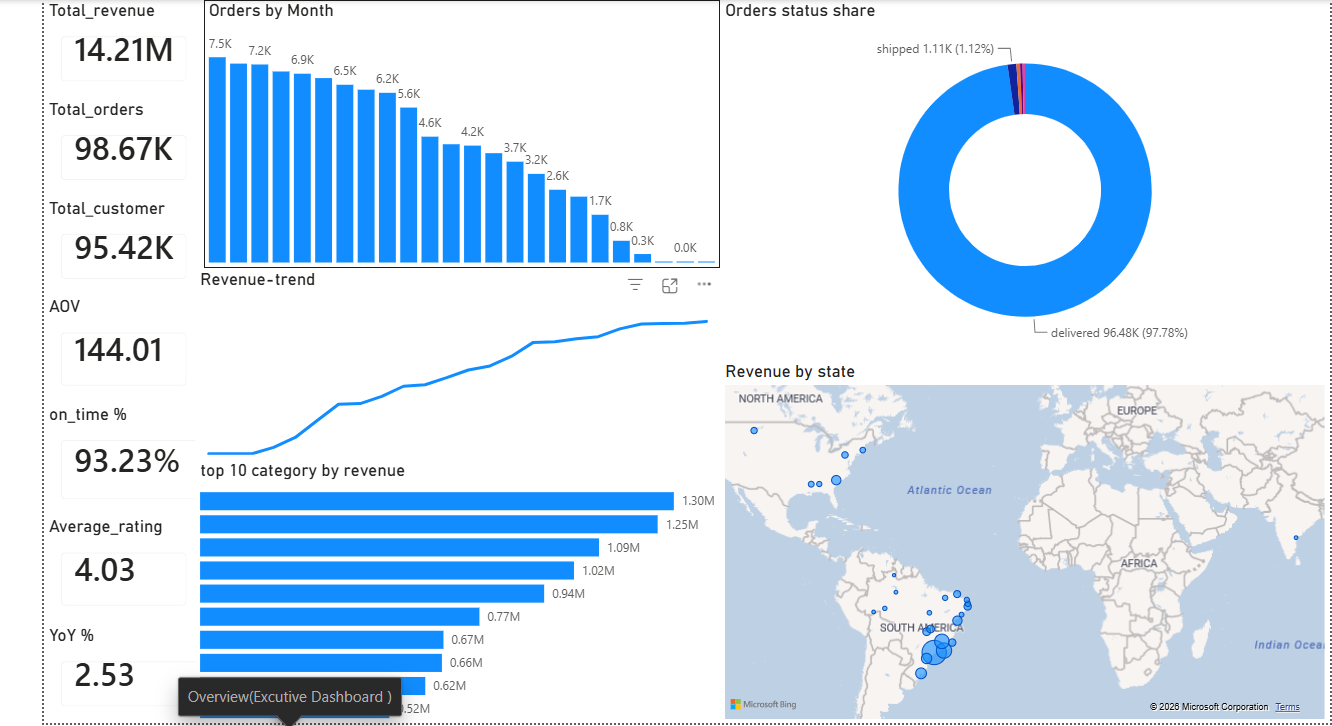

This screenshot's page, from the dashboard's own definition file:
{"tool":"powerbi","page":{"name":"Overview(Excutive Dashboard )","canvas":[1280,720],"ordinal":0},"visuals":[{"type":"cardVisual","title":"Total_revenue","fields":{"Data":["public bi_fact_sales.Revenue"]},"box":[0,0,159.2,98.3],"z":0},{"type":"cardVisual","title":"Total_orders","fields":{"Data":["public bi_fact_sales.Orders","select"]},"box":[0,98.3,159.2,98.3],"z":1000},{"type":"cardVisual","title":"Total_customer","fields":{"Data":["public bi_fact_sales.Customers"]},"box":[0,196.5,159.2,98.3],"z":2000},{"type":"cardVisual","title":"AOV","fields":{"Data":["public bi_fact_sales.AOV"]},"box":[0,294.8,159.2,107],"z":3000},{"type":"cardVisual","title":"on_time %","fields":{"Data":["public bi_fact_sales.On-time %"]},"box":[0,401.4,185.7,112.9],"z":4000},{"type":"cardVisual","title":"Average_rating","fields":{"Data":["public bi_fact_sales.Avg Rating"]},"box":[0,513.8,159.2,107],"z":5000},{"type":"cardVisual","title":"YoY %","fields":{"Data":["public bi_fact_sales.YoY %"]},"box":[0,621.4,202.9,98.6],"z":6000},{"type":"lineChart","title":"Revenue-trend","fields":{"Y":["public bi_fact_sales.Revenue"],"Category":["DimDate.Year-Month"]},"box":[150.5,267.5,522.5,190.3],"z":7000},{"type":"clusteredColumnChart","title":"Orders by Month","fields":{"Y":["public bi_fact_sales.Orders"],"Category":["DimDate.Year-Month"]},"box":[159.2,0,513.8,267.5],"z":8000},{"type":"barChart","title":"top 10 category by revenue","fields":{"Y":["public bi_fact_sales.Revenue"],"Category":["public bi_fact_sales.category"]},"box":[150.5,457.8,522.5,262.5],"z":9000},{"type":"map","title":"Revenue by state","fields":{"Category":["public bi_fact_sales.customer_state"],"Size":["public bi_fact_sales.Revenue"]},"box":[673,359.5,607.1,360.7],"z":10000},{"type":"donutChart","title":"Orders status share","fields":{"Category":["public bi_fact_sales.order_status"],"Y":["public bi_fact_sales.Orders"]},"box":[673,0,607.1,359.5],"z":11000}]}

Visuals, with their boxes on the page's 1280x720 design canvas (x1, y1, x2, y2). These are canvas units, not pixel positions in the 1332x726 screenshot, which may show the page scaled, cropped or inside an application window:
"Total_revenue" cardVisual: (0,0,159,98)
"Total_orders" cardVisual: (0,98,159,197)
"Total_customer" cardVisual: (0,196,159,295)
"AOV" cardVisual: (0,295,159,402)
"on_time %" cardVisual: (0,401,186,514)
"Average_rating" cardVisual: (0,514,159,621)
"YoY %" cardVisual: (0,621,203,720)
"Revenue-trend" lineChart: (150,268,673,458)
"Orders by Month" clusteredColumnChart: (159,0,673,268)
"top 10 category by revenue" barChart: (150,458,673,720)
"Revenue by state" map: (673,360,1280,720)
"Orders status share" donutChart: (673,0,1280,360)
